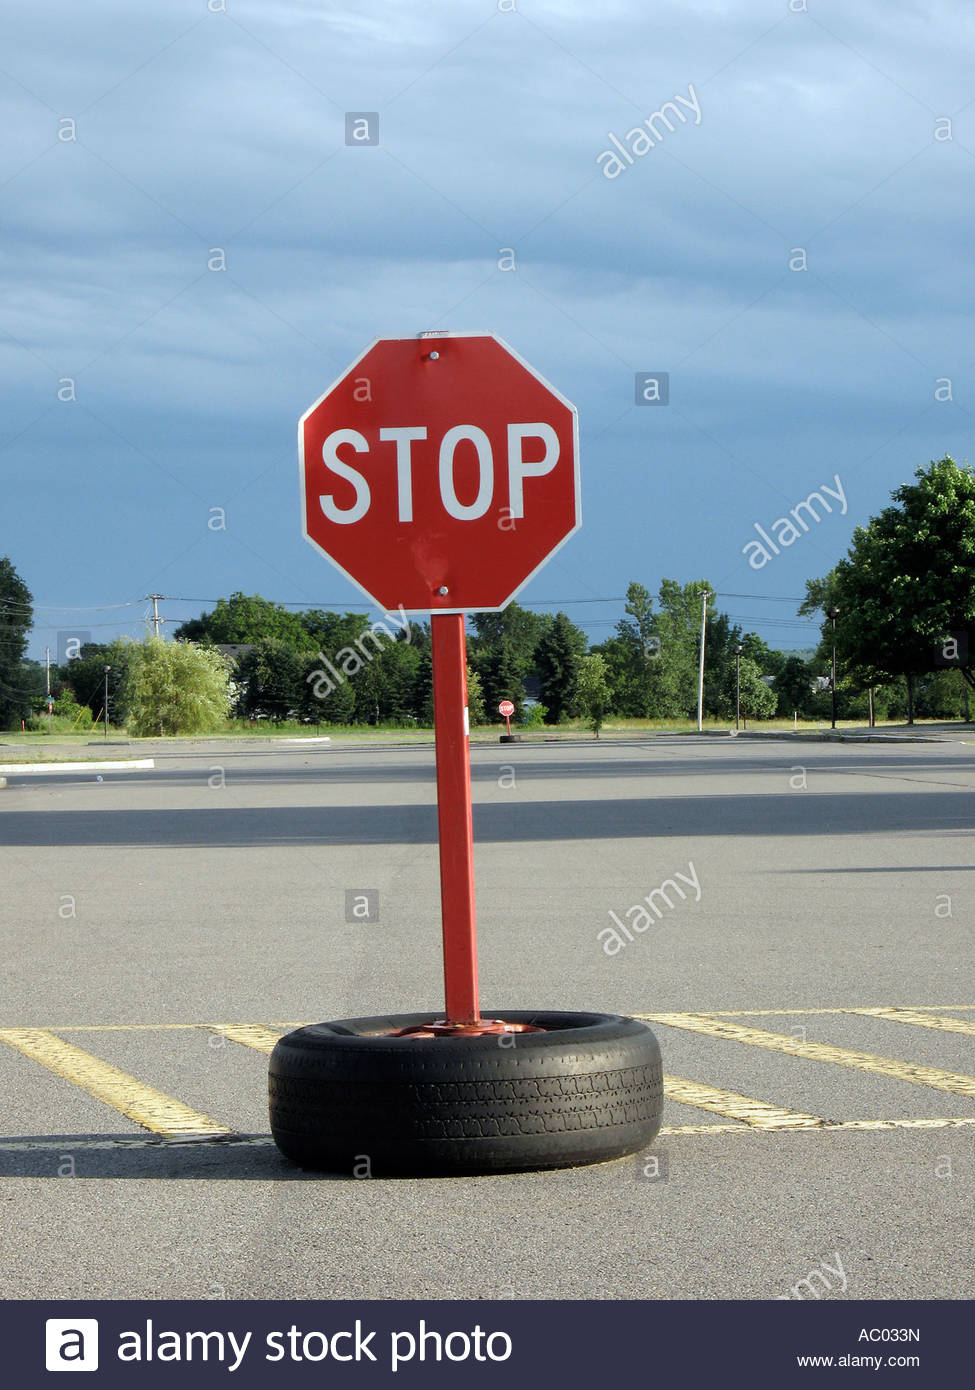stopsign: (298, 330, 582, 611)
